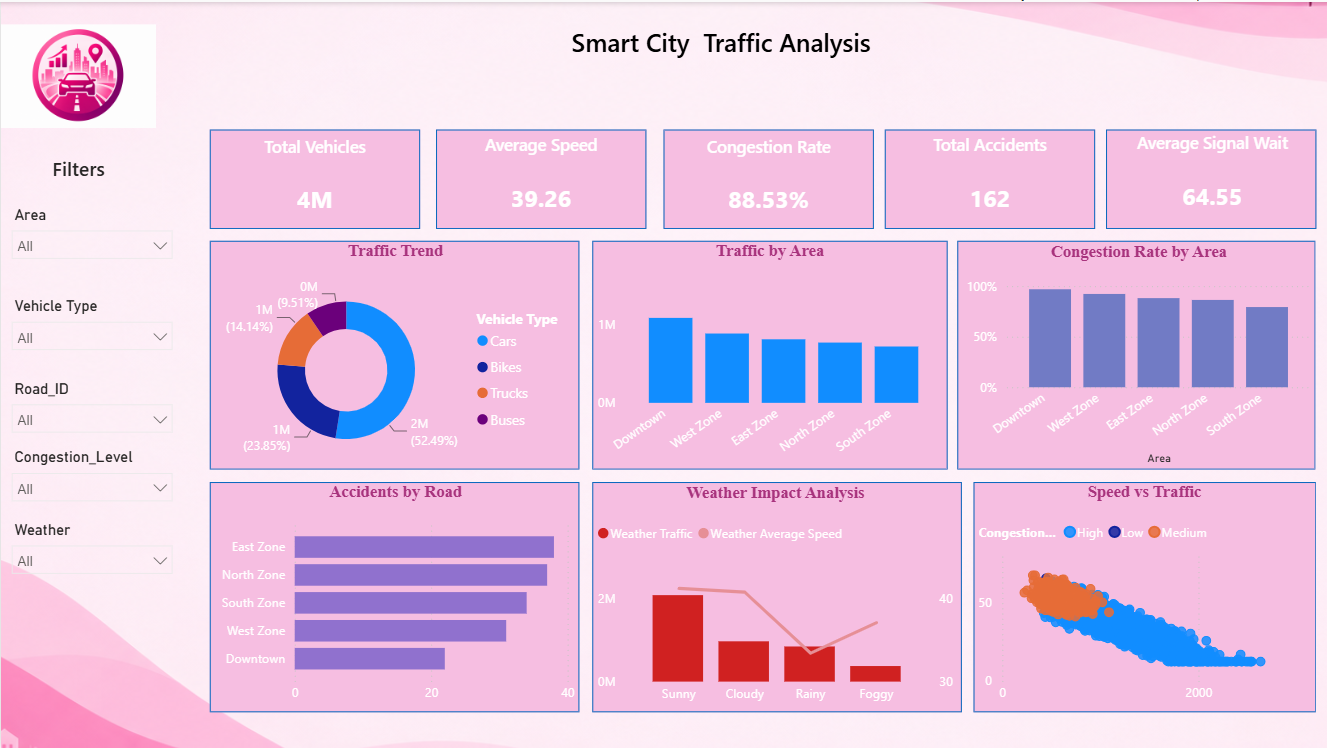

What the dashboard file says about the page in this screenshot:
{"tool":"powerbi","page":{"name":"Page 1","canvas":[1280,720],"ordinal":0},"visuals":[{"type":"image","box":[0,0,149.6,143.7],"z":0},{"type":"shape","box":[201.7,123.5,203.1,96.1],"z":1000},{"type":"shape","box":[419.9,123.5,203.1,96.1],"z":2000},{"type":"shape","box":[639.5,123.5,203.1,96.1],"z":3000},{"type":"shape","box":[853.5,123.5,203.1,96.1],"z":4000},{"type":"shape","box":[1066.2,123.5,203.1,96.1],"z":5000},{"type":"shape","box":[201.7,230.5,356.8,220.9],"z":6000},{"type":"shape","box":[570.8,230.5,343.1,220.9],"z":7000},{"type":"shape","box":[923.5,230.5,345.8,220.9],"z":8000},{"type":"shape","box":[201.7,463.8,356.8,222.3],"z":9000},{"type":"shape","box":[570.8,463.8,356.8,222.3],"z":10000},{"type":"shape","box":[938.6,463.8,330.7,222.3],"z":11000},{"type":"cardVisual","title":"Total Vehicles","fields":{"Data":["Traffic_Data.Total Vehicles"]},"box":[201.7,127.6,203.1,89.2],"z":12000},{"type":"cardVisual","title":"Average Speed","fields":{"Data":["Traffic_Data.Average Speed"]},"box":[419.9,126.2,203.1,89.2],"z":13000},{"type":"cardVisual","title":"Congestion Rate","fields":{"Data":["Traffic_Data.Congestion Rate"]},"box":[639.5,127.6,203.1,89.2],"z":14000},{"type":"cardVisual","title":"Average Signal Wait","fields":{"Data":["Traffic_Data.Average Signal Wait"]},"box":[1067.6,124.7,203.1,89.2],"z":14001},{"type":"cardVisual","title":"Total Accidents","fields":{"Data":["Traffic_Data.Total Accidents"]},"box":[853.5,126.1,203.1,89.2],"z":14002},{"type":"donutChart","title":"Traffic Trend","fields":{"Category":["Vehicle_Type.Vehicle Type"],"Y":["Vehicle_Type.Vehicle Type Count"]},"box":[202.4,230.2,356.4,221.4],"z":14003},{"type":"clusteredColumnChart","title":"Traffic by Area","fields":{"Category":["Traffic_Data.Area"],"Y":["Traffic_Data.Area Traffic"]},"box":[570.5,230.2,343.2,221.4],"z":14004},{"type":"columnChart","fields":{"Category":["Traffic_Data.Area"],"Y":["Traffic_Data.Congestion Rate"]},"box":[926.9,231.7,343.2,220],"z":14005},{"type":"barChart","title":"Accidents by Road","fields":{"Category":["Traffic_Data.Area"],"Y":["Traffic_Data.Road Accidents"]},"box":[202.4,463.4,356.4,221.4],"z":14006},{"type":"lineStackedColumnComboChart","title":"Weather Impact Analysis","fields":{"Category":["Traffic_Data.Weather"],"Y":["Traffic_Data.Weather Traffic"],"Y2":["Traffic_Data.Weather Average Speed"]},"box":[570.5,464.9,353.4,221.4],"z":14007},{"type":"scatterChart","title":"Speed vs Traffic","fields":{"Category":["Traffic_Data.Record_ID"],"Series":["Traffic_Data.Congestion_Level"],"X":["Traffic_Data.Total Vehicles"],"Y":["Traffic_Data.Average Speed"]},"box":[938.6,463.4,330,221.4],"z":14008},{"type":"textbox","box":[110,0,1170.3,99.7],"z":14009},{"type":"textbox","box":[0,143.7,149.6,70.4],"z":14010},{"type":"slicer","fields":{"Values":["Traffic_Data.Area"]},"box":[0,192.1,176,79.2],"z":14011},{"type":"slicer","fields":{"Values":["Vehicle_Type.Vehicle Type"]},"box":[0,280.1,176,79.2],"z":14012},{"type":"slicer","fields":{"Values":["Traffic_Data.Road_ID"]},"box":[0,359.3,176,79.2],"z":14013},{"type":"slicer","fields":{"Values":["Traffic_Data.Congestion_Level"]},"box":[0,425.3,176,79.2],"z":14014},{"type":"slicer","fields":{"Values":["Traffic_Data.Weather"]},"box":[0,495.7,176,79.2],"z":14015}]}

Visuals, with their boxes in screenshot pixels (x1, y1, x2, y2), scaled from the page's 1280x720 canvas onto the 1327x748 screenshot:
image: {"left": 0, "top": 0, "right": 155, "bottom": 149}
shape: {"left": 209, "top": 128, "right": 420, "bottom": 228}
shape: {"left": 435, "top": 128, "right": 646, "bottom": 228}
shape: {"left": 663, "top": 128, "right": 874, "bottom": 228}
shape: {"left": 885, "top": 128, "right": 1095, "bottom": 228}
shape: {"left": 1105, "top": 128, "right": 1316, "bottom": 228}
shape: {"left": 209, "top": 239, "right": 579, "bottom": 469}
shape: {"left": 592, "top": 239, "right": 947, "bottom": 469}
shape: {"left": 957, "top": 239, "right": 1316, "bottom": 469}
shape: {"left": 209, "top": 482, "right": 579, "bottom": 713}
shape: {"left": 592, "top": 482, "right": 962, "bottom": 713}
shape: {"left": 973, "top": 482, "right": 1316, "bottom": 713}
"Total Vehicles" cardVisual: {"left": 209, "top": 133, "right": 420, "bottom": 225}
"Average Speed" cardVisual: {"left": 435, "top": 131, "right": 646, "bottom": 224}
"Congestion Rate" cardVisual: {"left": 663, "top": 133, "right": 874, "bottom": 225}
"Average Signal Wait" cardVisual: {"left": 1107, "top": 130, "right": 1317, "bottom": 222}
"Total Accidents" cardVisual: {"left": 885, "top": 131, "right": 1095, "bottom": 224}
"Traffic Trend" donutChart: {"left": 210, "top": 239, "right": 579, "bottom": 469}
"Traffic by Area" clusteredColumnChart: {"left": 591, "top": 239, "right": 947, "bottom": 469}
columnChart - Traffic_Data.Area x Traffic_Data.Congestion Rate: {"left": 961, "top": 241, "right": 1317, "bottom": 469}
"Accidents by Road" barChart: {"left": 210, "top": 481, "right": 579, "bottom": 711}
"Weather Impact Analysis" lineStackedColumnComboChart: {"left": 591, "top": 483, "right": 958, "bottom": 713}
"Speed vs Traffic" scatterChart: {"left": 973, "top": 481, "right": 1315, "bottom": 711}
textbox: {"left": 114, "top": 0, "right": 1326, "bottom": 104}
textbox: {"left": 0, "top": 149, "right": 155, "bottom": 222}
slicer - Traffic_Data.Area: {"left": 0, "top": 200, "right": 182, "bottom": 282}
slicer - Vehicle_Type.Vehicle Type: {"left": 0, "top": 291, "right": 182, "bottom": 373}
slicer - Traffic_Data.Road_ID: {"left": 0, "top": 373, "right": 182, "bottom": 456}
slicer - Traffic_Data.Congestion_Level: {"left": 0, "top": 442, "right": 182, "bottom": 524}
slicer - Traffic_Data.Weather: {"left": 0, "top": 515, "right": 182, "bottom": 597}
